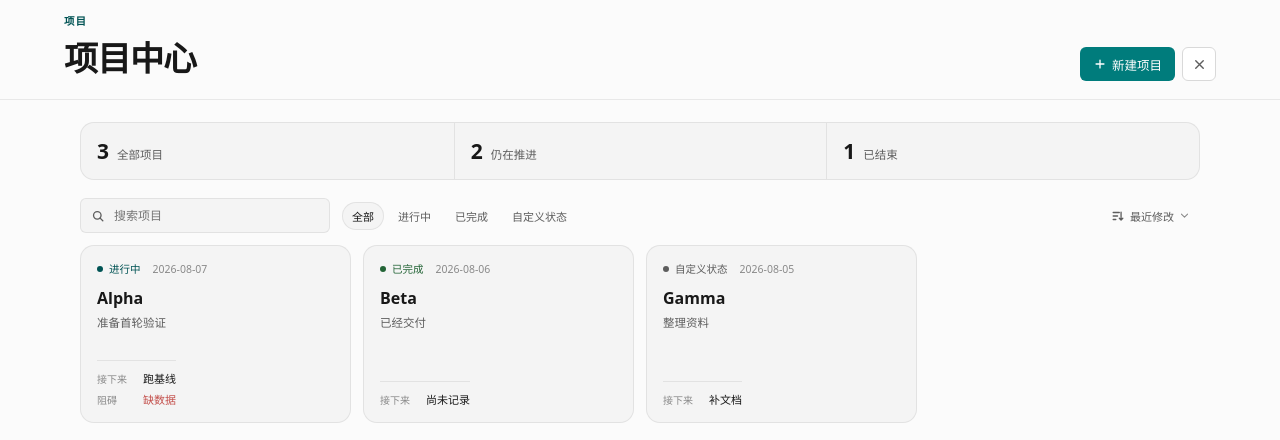
Test case: 项目中心 › 右键（手机上长按）状态筛选可设为默认，下次打开先显示那一档
This screenshot has width=1280, height=440.
Right-click the button "进行中": point(414, 216) 388,202 -> 441,230
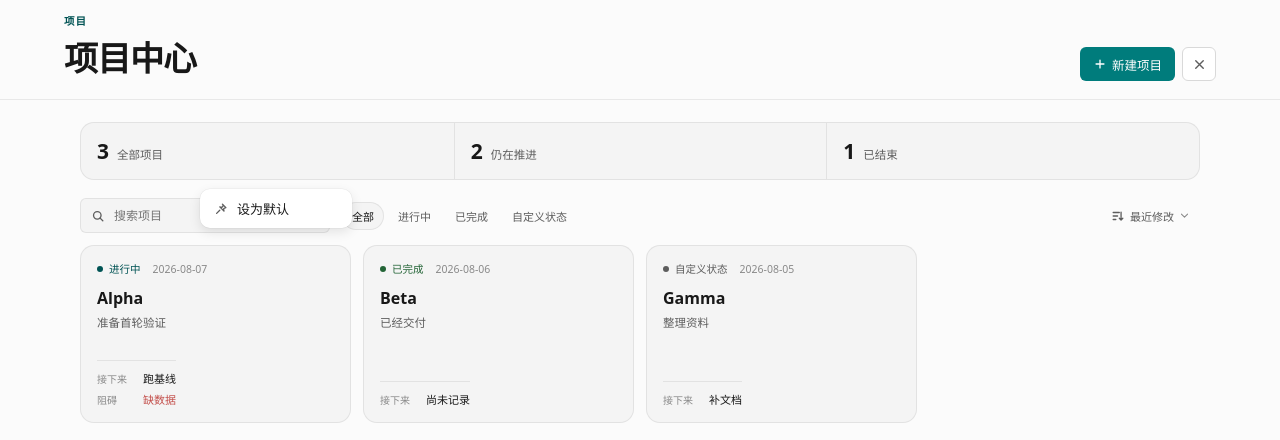
Click the button "设为默认": point(276, 208) 204,193 -> 348,224
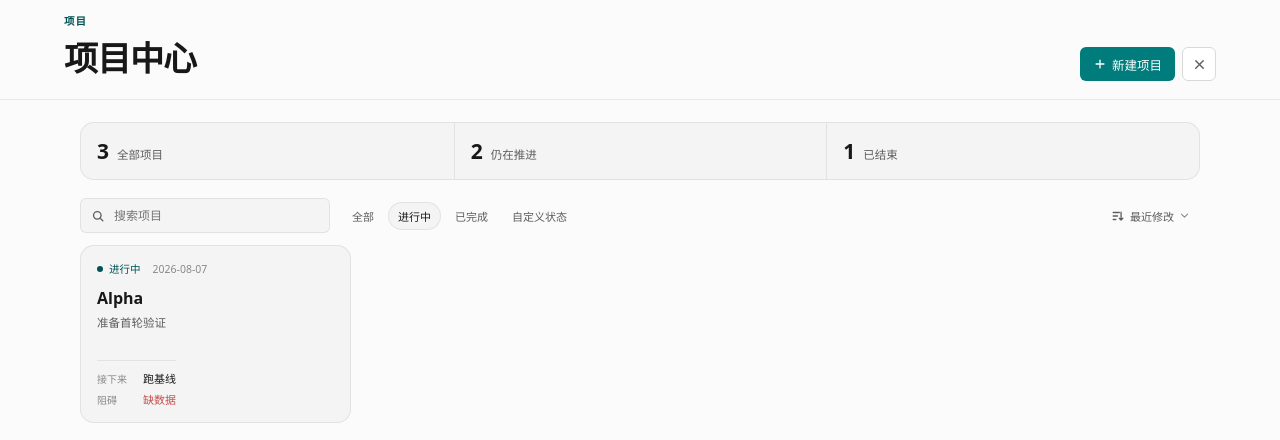
expect the list with class "ctx" is gone: met
expect the button "进行中" is shown: met
expect the button with class "is-on" reads "进行中": met
Right-click the button with class "is-on": point(414, 216) 388,202 -> 441,230
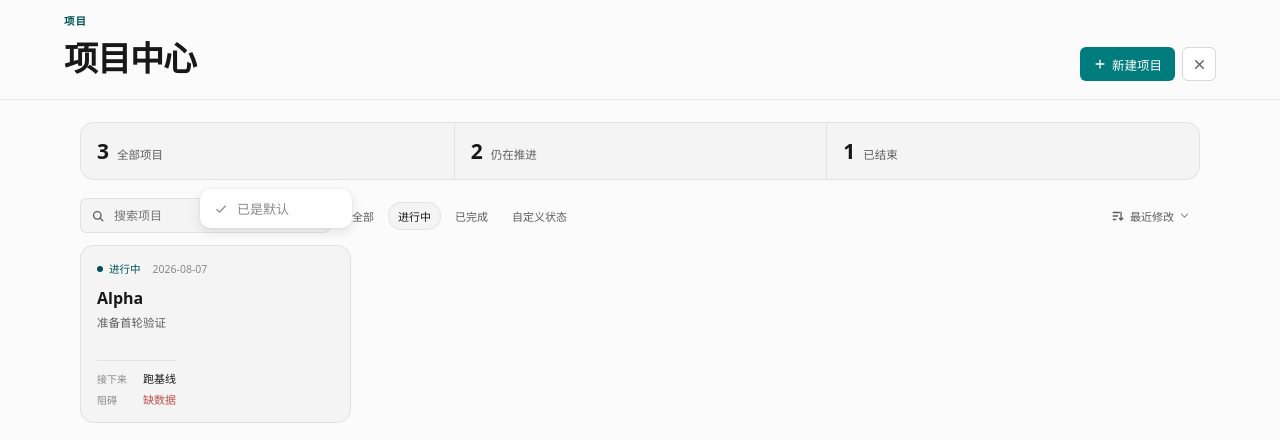
expect the button "已是默认" is shown: met, box 204,193 -> 348,224
expect the button "已是默认" is disabled: met, box 204,193 -> 348,224
